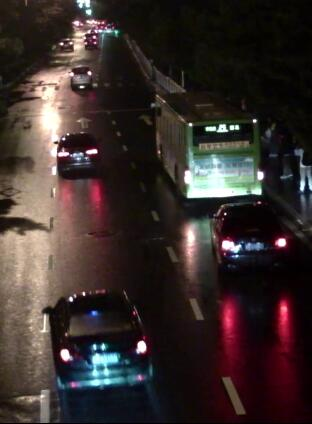bus: (149, 89, 267, 206)
car: (43, 290, 153, 397), (207, 199, 297, 274), (53, 130, 100, 175), (67, 65, 95, 88), (56, 36, 73, 50), (82, 37, 97, 47), (83, 28, 98, 37)
